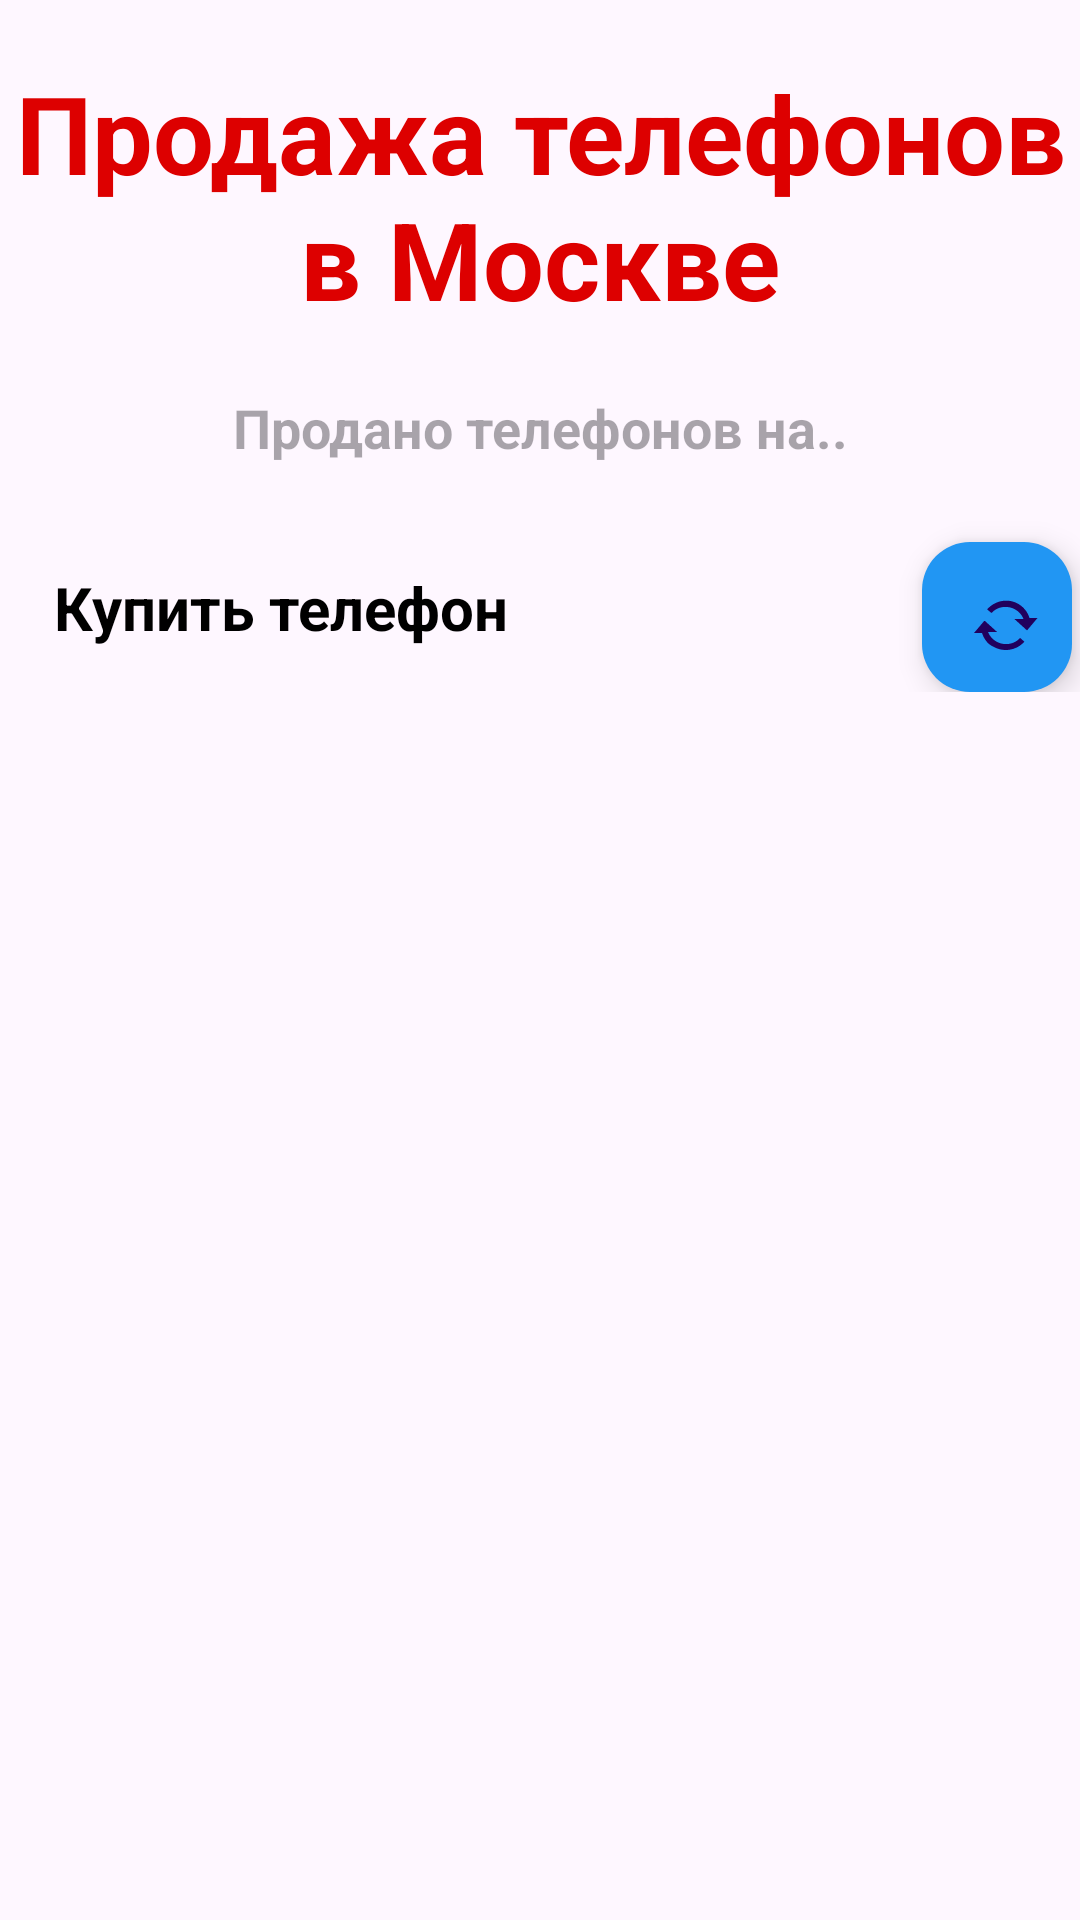

Icon bounding boxes for this 1080w x 1920h phone screenshot, format Rect(x1, y1, x2, y2):
sync: Rect(922, 542, 1072, 692)
